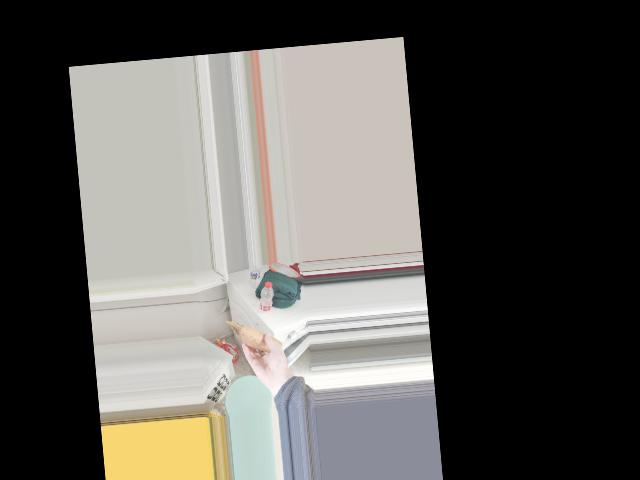sweet_potato: (242, 325, 277, 356)
